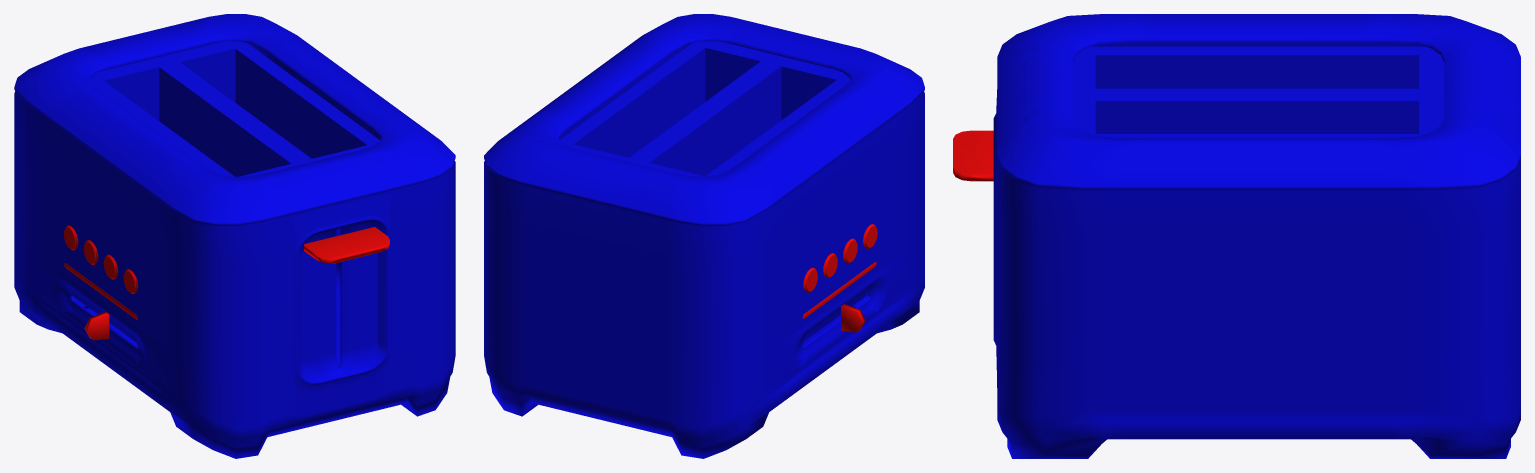
The model's file is tostadora completa .fbx.
3 renders of one model, left to right at view 1: azimuth 30°, elevation 25°; view 2: azimuth 150°, elevation 25°; view 3: azimuth 270°, elevation 25°, orthographic. The views are drawn at different scales.
Parts seen in each view (by area): view 1: base_low, base_pan_low, palanca1_low, palanca_low; view 2: base_low, base_pan_low, palanca_low; view 3: base_low, base_pan_low, palanca1_low.
Part boxes in pixels (x1,y1,x2,y2): base_low: (14, 14, 455, 458); base_pan_low: (89, 41, 379, 236); palanca1_low: (304, 227, 389, 263); palanca_low: (84, 311, 109, 340); base_low: (484, 14, 924, 458); base_pan_low: (560, 41, 850, 176); palanca_low: (841, 304, 865, 332); base_low: (993, 14, 1520, 458); base_pan_low: (1072, 46, 1444, 137); palanca1_low: (953, 130, 993, 181).
Bounding box in the file's own units: 22.01 × 18.78 × 30.16.
